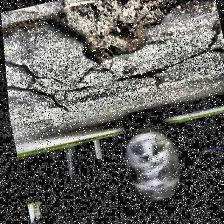pothole: (41, 0, 223, 78)
